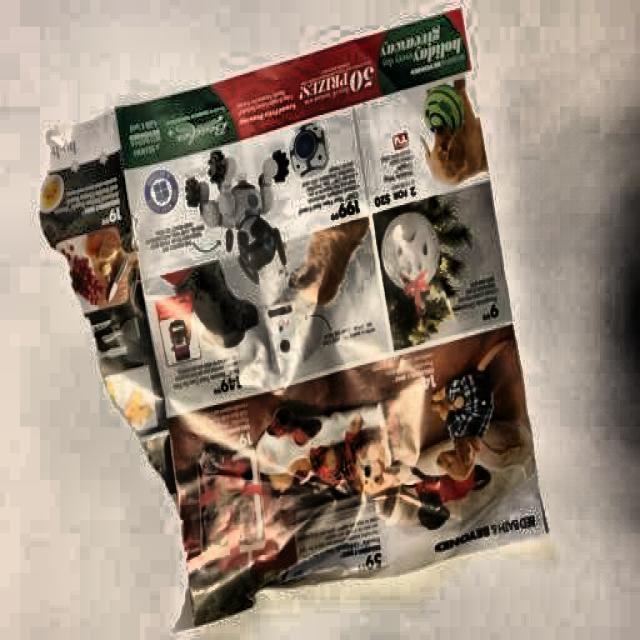paper: (53, 44, 547, 587)
